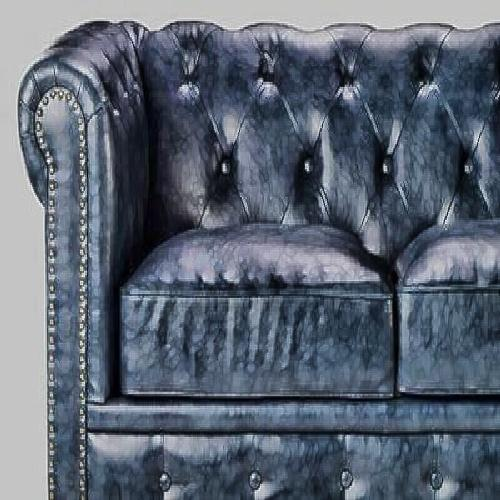sofa: (31, 24, 490, 483)
